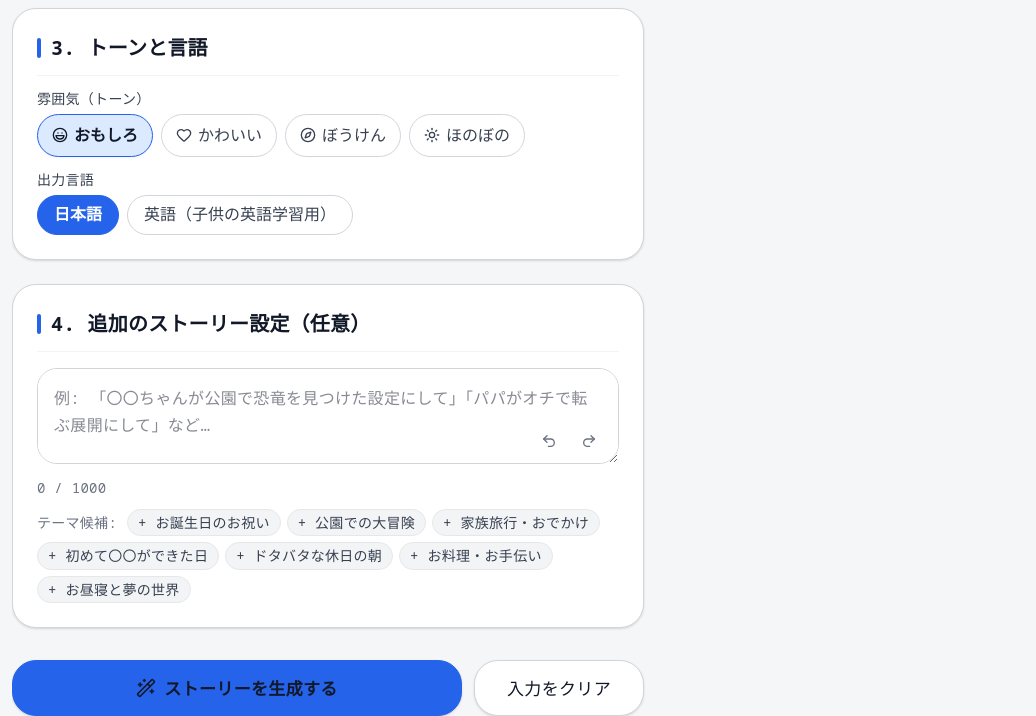
Test: StoryCreator › generates a story image on submission and allows reset
This screenshot has width=1036, height=716.
Earlier steps of the test are not shown.
(page scrolled)
What coordinates should you click on to do the following:
click the button "ストーリーを生成する"
I would click on:
 (237, 688)
Its box is x1=12 y1=660 x2=462 y2=715.
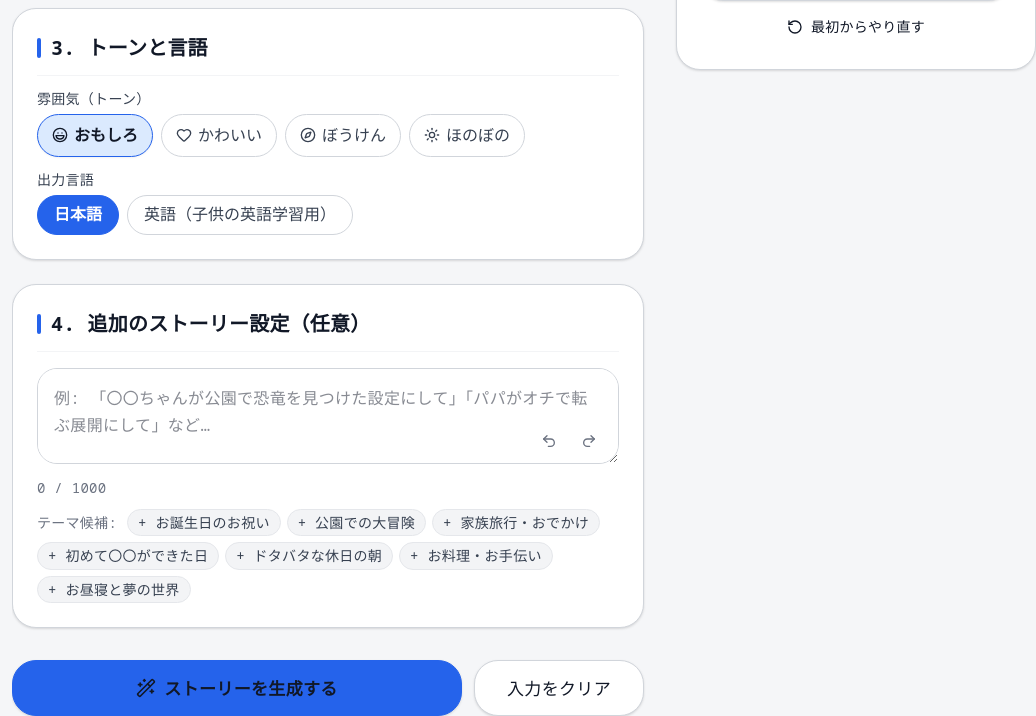
What coordinates should you click on to do the following:
click the button "最初からやり直す"
I would click on:
 (856, 27)
Its box is x1=701 y1=9 x2=1011 y2=45.
(page scrolled)
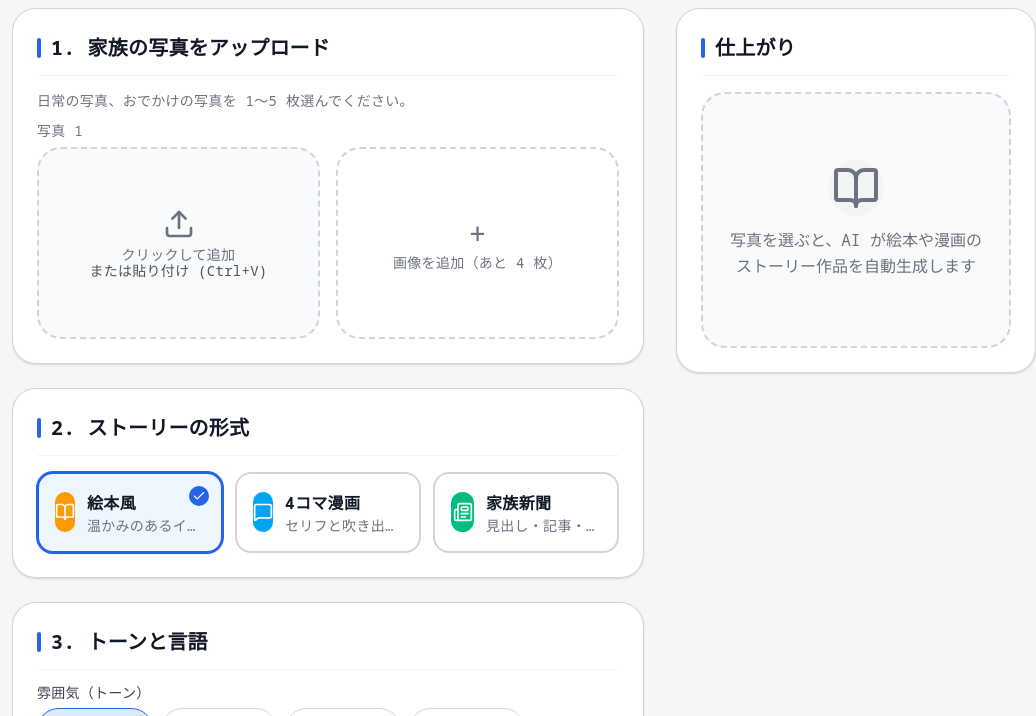
Result: the text "写真を選ぶと、AI が絵本や漫画のストーリー作品を自動生成します" is shown at x1=727 y1=228 x2=985 y2=280
